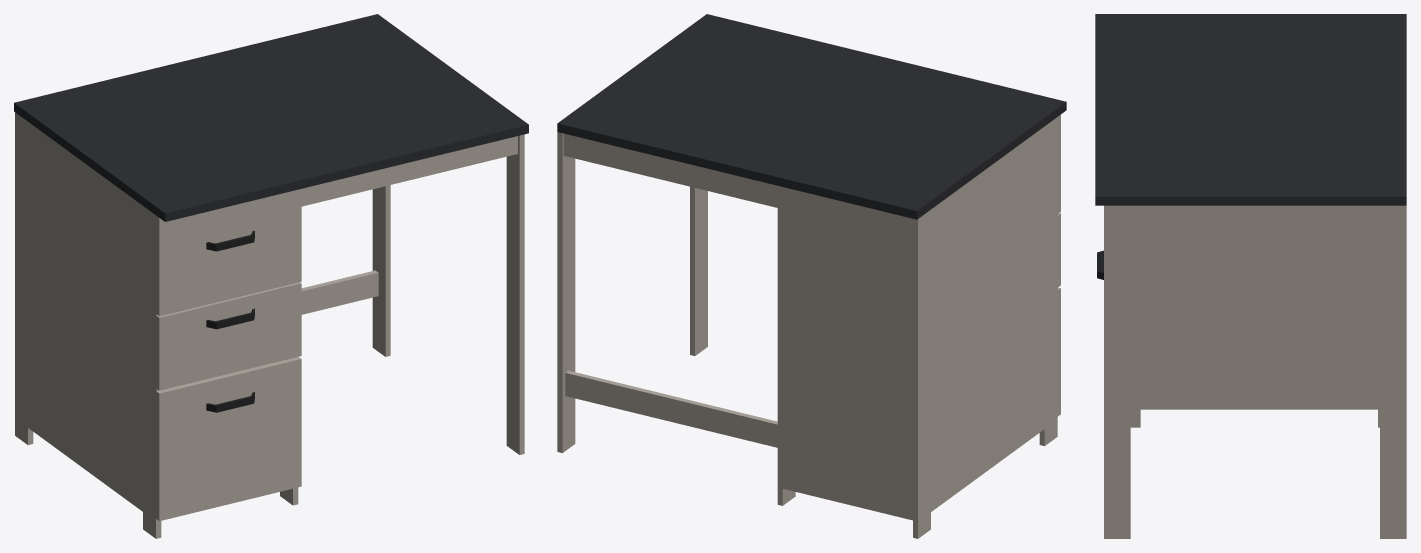
Rendered from SM_Table_03.gltf.
3 views of the same model, side by side, from view 1: azimuth 30°, elevation 25°; view 2: azimuth 150°, elevation 25°; view 3: azimuth 270°, elevation 25° (orthographic). The views are drawn at different scales.
Parts seen in each view (by area): view 1: SM_Table_03, SM_Shelf_For_Table_03, SM_Shelf_For_Table_01, SM_Shelf_For_Table_02; view 2: SM_Table_03; view 3: SM_Table_03.
Boxes of the visible parts, x1,y1,x2,y2 form: SM_Table_03: (14,14,528,538); SM_Shelf_For_Table_03: (156,357,301,521); SM_Shelf_For_Table_01: (156,207,301,316); SM_Shelf_For_Table_02: (156,282,301,390); SM_Table_03: (557,14,1066,538); SM_Table_03: (1095,14,1406,538).
Size of the model in its own units: 1 by 0.8729 by 0.7198.
